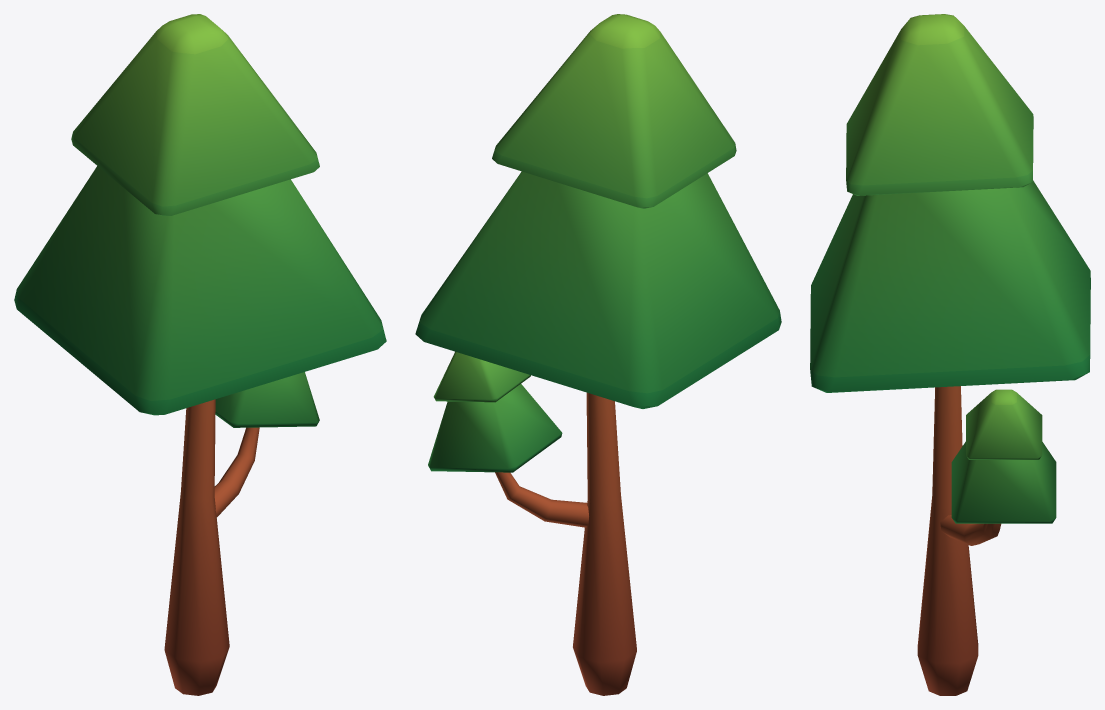
Rendered from Tree_4_A.glb.
The picture shows the model from 3 angles, left to right: view 1: azimuth 30°, elevation 25°; view 2: azimuth 150°, elevation 25°; view 3: azimuth 270°, elevation 25°; orthographic projection.
Parts seen in each view (by area): view 1: Tree_4_A_Color1; view 2: Tree_4_A_Color1; view 3: Tree_4_A_Color1.
Part boxes in pixels (<box>): Tree_4_A_Color1: <box>14,14,386,695</box>; Tree_4_A_Color1: <box>415,14,781,695</box>; Tree_4_A_Color1: <box>810,14,1090,695</box>.
Bounding box in the file's own units: 2.01 × 5.27 × 2.
Materials: 1 (1 with a texture image).
